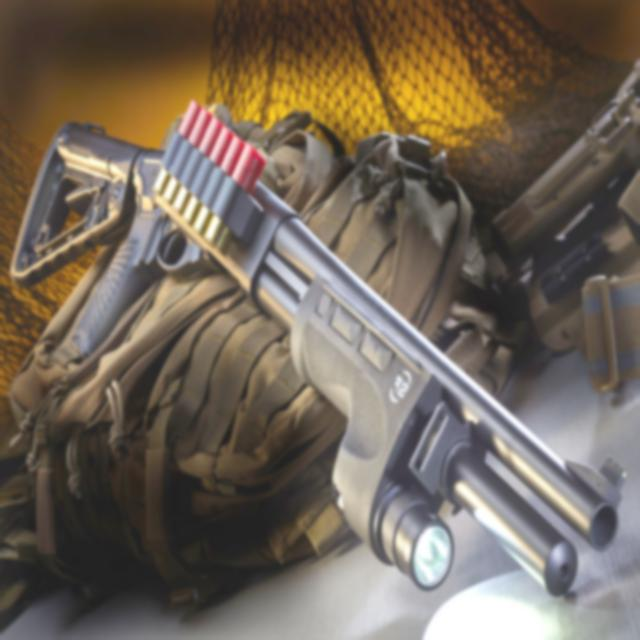shotgun: (5, 108, 640, 611)
